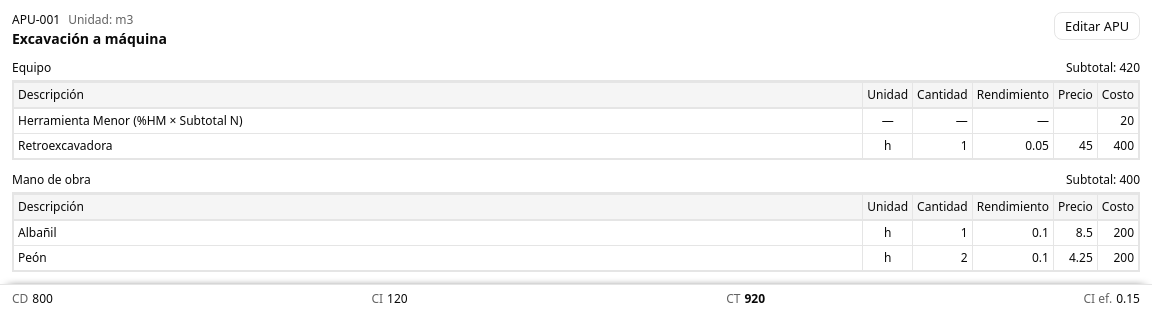
Test: PestanaApu › renders the complete read-only fixture in server order
Check: the text "APU-001" is shown, box [12,12,60,28]
Check: the heading "Excavación a máquina" is shown, box [12,30,167,48]
Hover over the button "CD" at (20, 298), box [12,290,28,306]
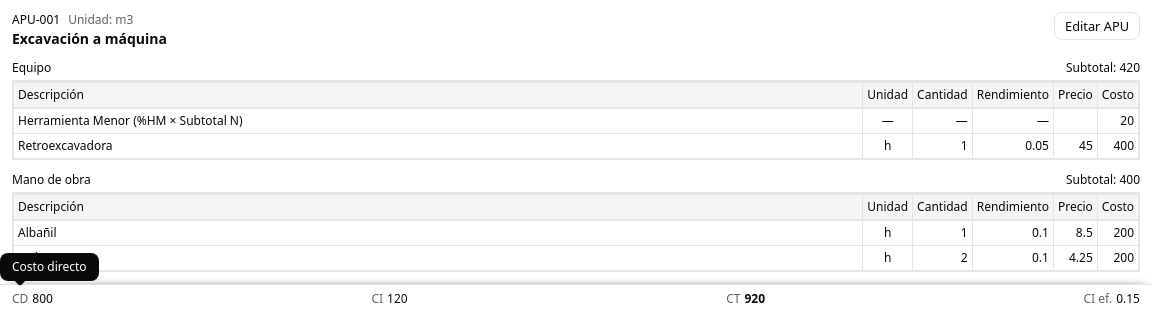
Check: the tooltip reads "Costo directo", box [12,258,87,275]
